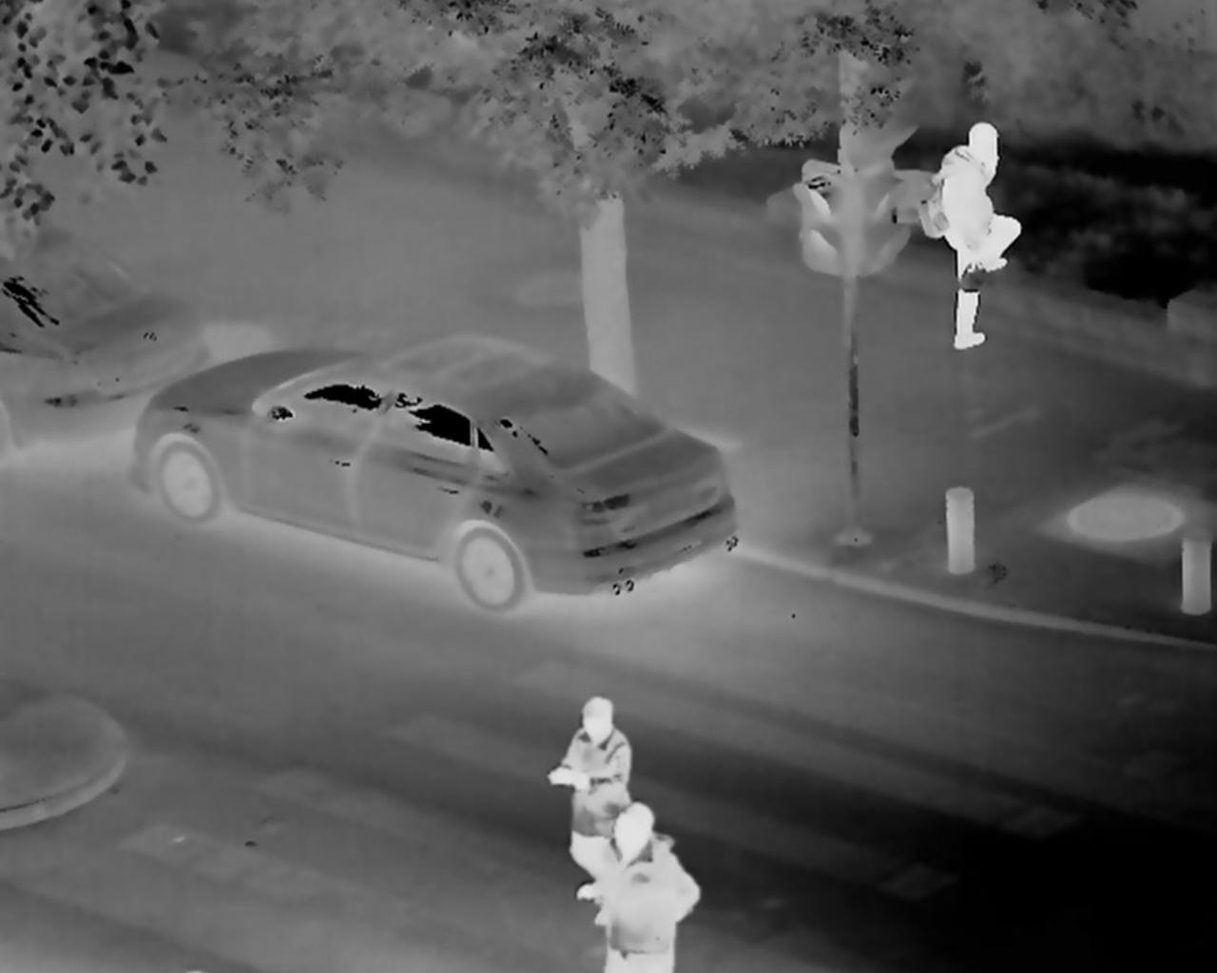person: (899, 116, 1028, 371), (576, 803, 708, 973), (541, 694, 647, 883)
